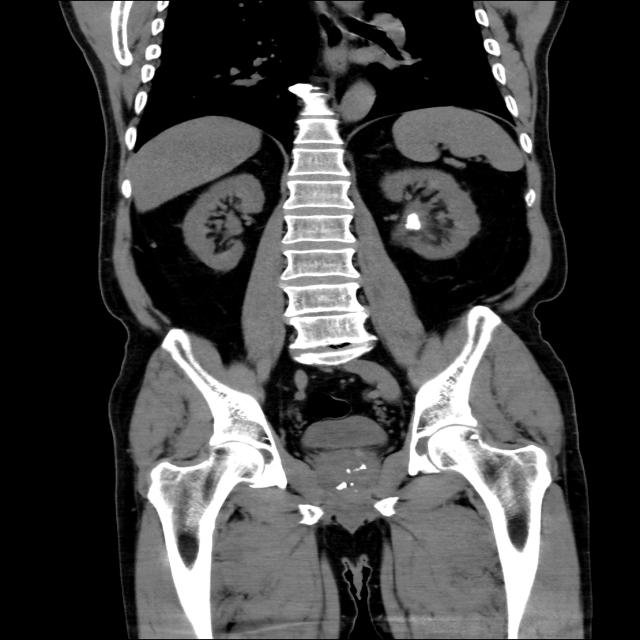kidneystone: (404, 212, 422, 231)
